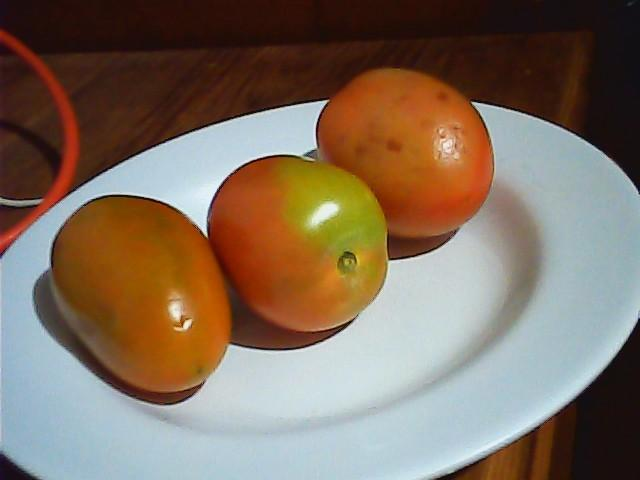verde: (47, 195, 232, 395), (206, 152, 389, 333), (315, 67, 497, 241)
